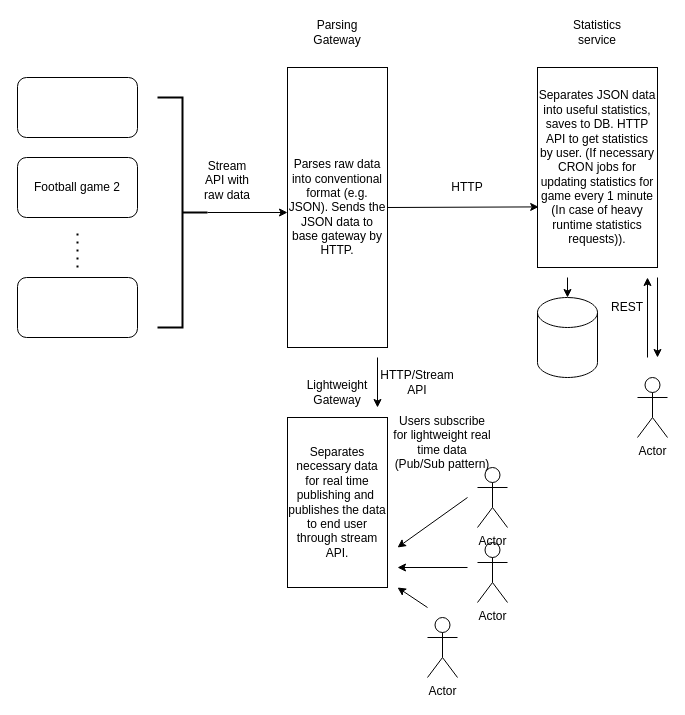
This 685x715 diagram has some shape labels left out. The centre of each missing label's shape, as x and y in pixels:
DB: [567,337]
Football game 1: [77,107]
Football game n: [77,307]
